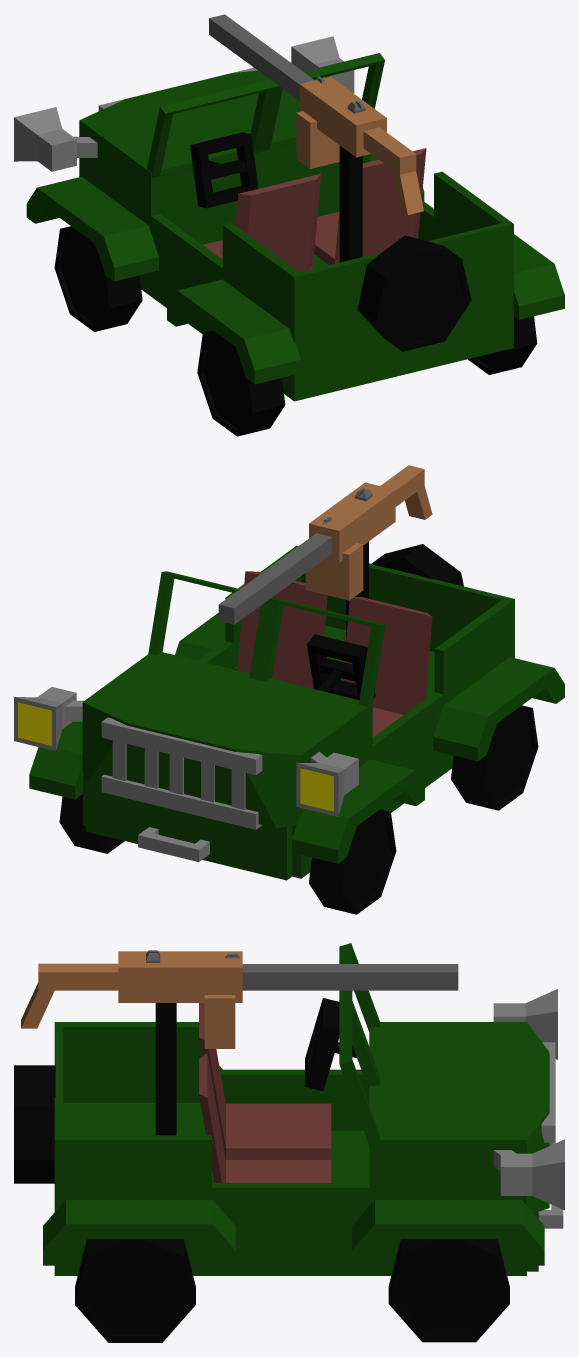
Rendered from default_jeep.glb.
3 views of the same model, one above another, from view 1: azimuth 30°, elevation 25°; view 2: azimuth 150°, elevation 25°; view 3: azimuth 270°, elevation 25° (orthographic). The views are drawn at different scales.
Parts seen in each view (by area): view 1: Moto Wheel.013, Weapon Stand.002; view 2: Moto Wheel.013, Weapon Stand.002; view 3: Moto Wheel.013, Weapon Stand.002.
Boxes of the visible parts, x1,y1,x2,y2 form: Moto Wheel.013: (14, 36, 564, 436); Weapon Stand.002: (209, 14, 423, 262); Moto Wheel.013: (14, 544, 564, 914); Weapon Stand.002: (218, 465, 432, 641); Moto Wheel.013: (14, 943, 564, 1342); Weapon Stand.002: (21, 950, 458, 1135).
Bounding box in the file's own units: 226 × 191 × 304.
